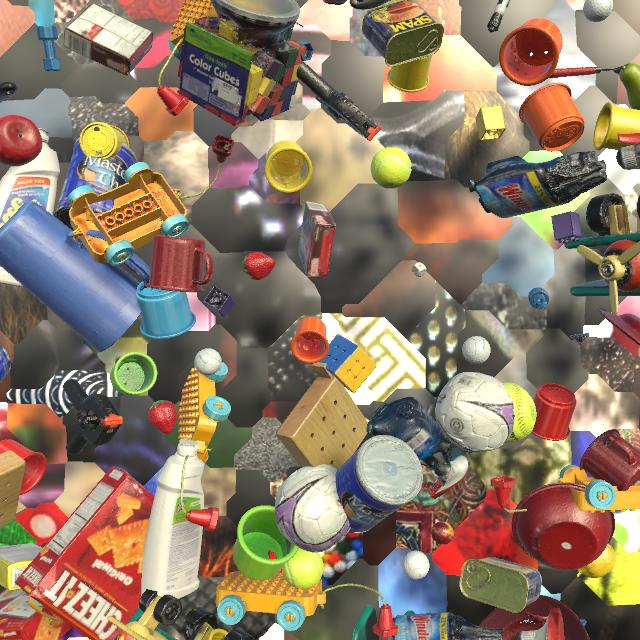ycb_002_master_chef_can: (335, 435, 423, 533), (54, 137, 137, 231), (0, 344, 11, 383)
ycb_003_cracker_box: (15, 466, 154, 640), (0, 589, 72, 640)
ycb_004_sugar_box: (0, 543, 43, 591)
ycb_008_pudding_box: (64, 3, 153, 76), (298, 201, 336, 278)
ycb_010_potted_meat_can: (362, 0, 444, 67), (459, 557, 542, 613)
ycb_012_strawberry: (148, 400, 178, 434), (242, 252, 275, 280)
ycb_013_apple: (0, 115, 43, 167)
ycb_014_lemon: (577, 544, 616, 578)
ycb_016_pear: (619, 62, 640, 110)
